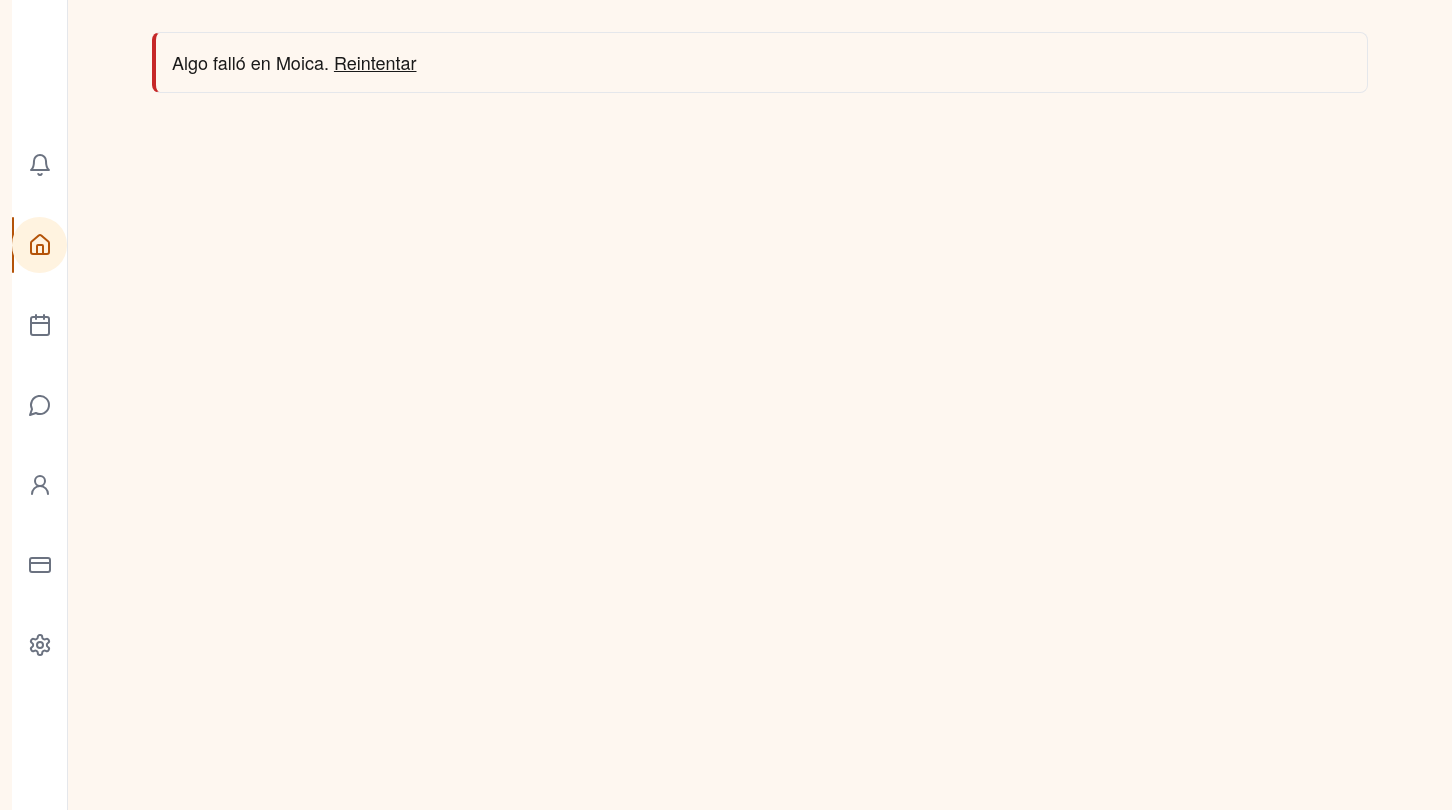
Test case: Panel de usuario › si falla el perfil avisa y permite reintentar en vez de pintar un panel vacío
Check: the message shows "Algo falló en Moica.", box [172, 49, 329, 75]
Click the button "Reintentar".
click(375, 62)  # box [334, 49, 416, 76]
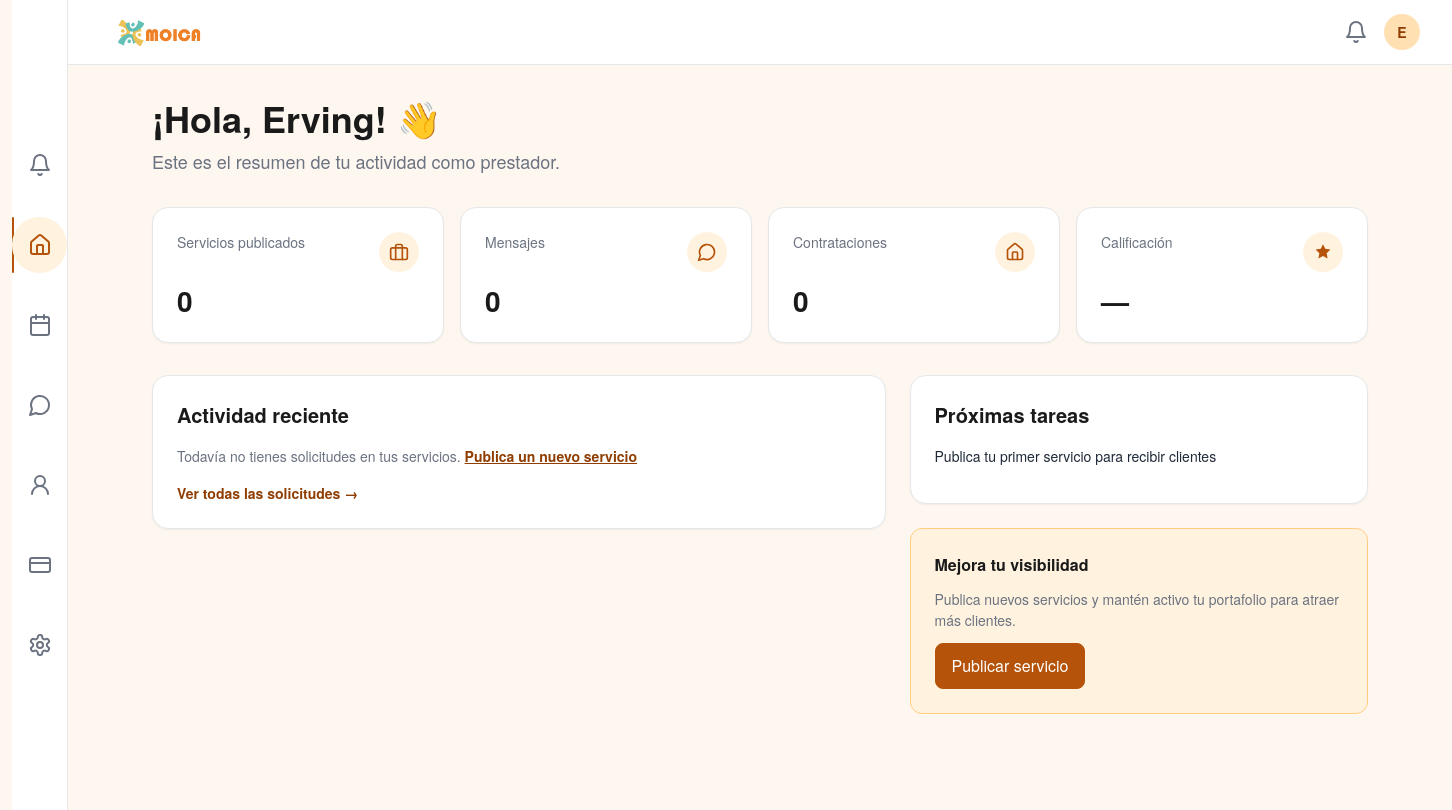
Check: the element named "Métricas clave" is shown, box [152, 207, 1368, 343]
